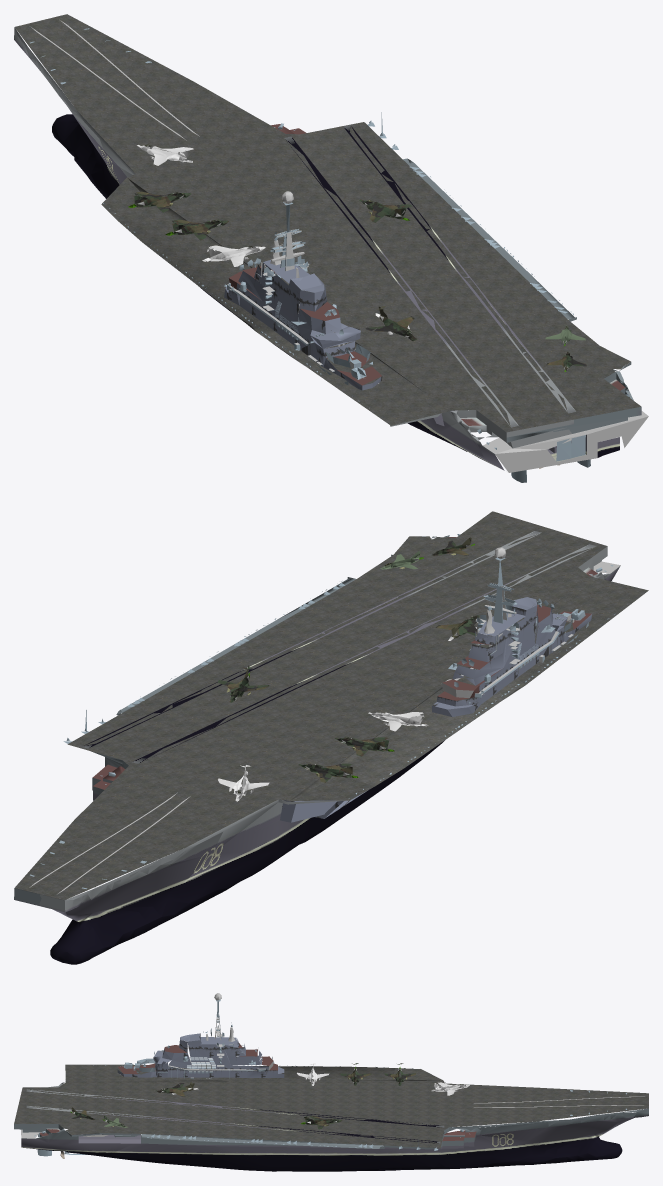
3 views of the same model, one above another, from view 1: azimuth 30°, elevation 25°; view 2: azimuth 150°, elevation 25°; view 3: azimuth 270°, elevation 25° (orthographic). The views are drawn at different scales.
Visible parts, largest first — view 1: Z_UP; view 2: Z_UP; view 3: Z_UP.
Part boxes in pixels (x1,y1,x2,y2): Z_UP: [14, 14, 648, 482]; Z_UP: [14, 511, 648, 964]; Z_UP: [14, 993, 648, 1171].
Bounding box in the file's own units: 104 × 72.32 × 324.
Materials: 35 (16 with a texture image).
